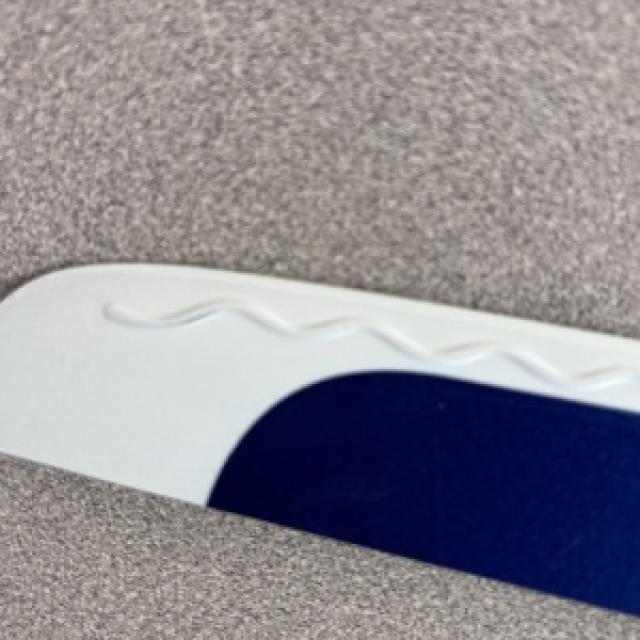healthy: (2, 262, 638, 612)
